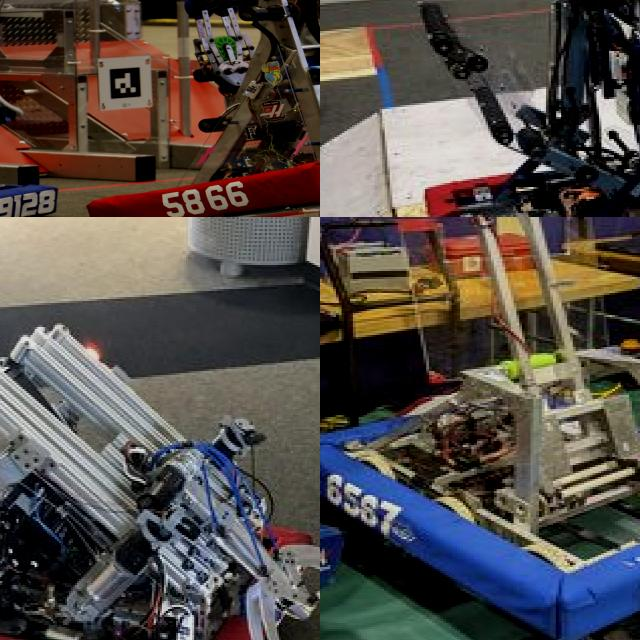FRC-Robots: (320, 217, 640, 640), (0, 305, 320, 640), (387, 0, 640, 217), (71, 0, 320, 217)
